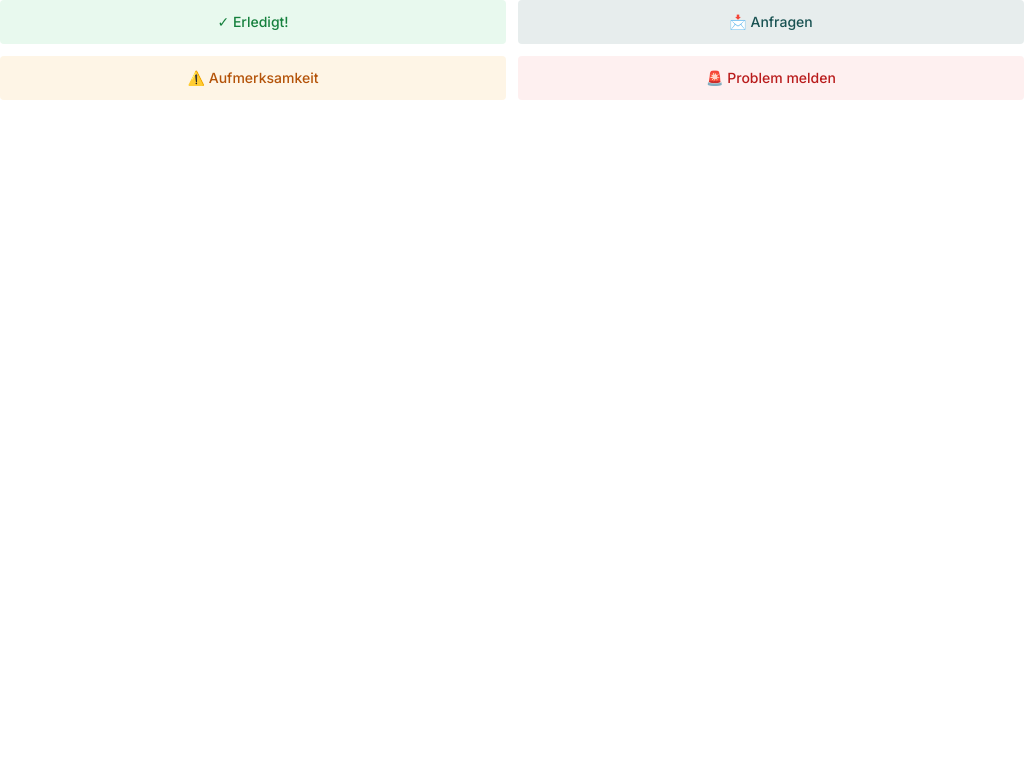
Test: ChoreActions › shows success status after request is sent
This screenshot has width=1024, height=768.
Click the button "📩 Anfragen" at [771, 22], box [518, 0, 1023, 44]
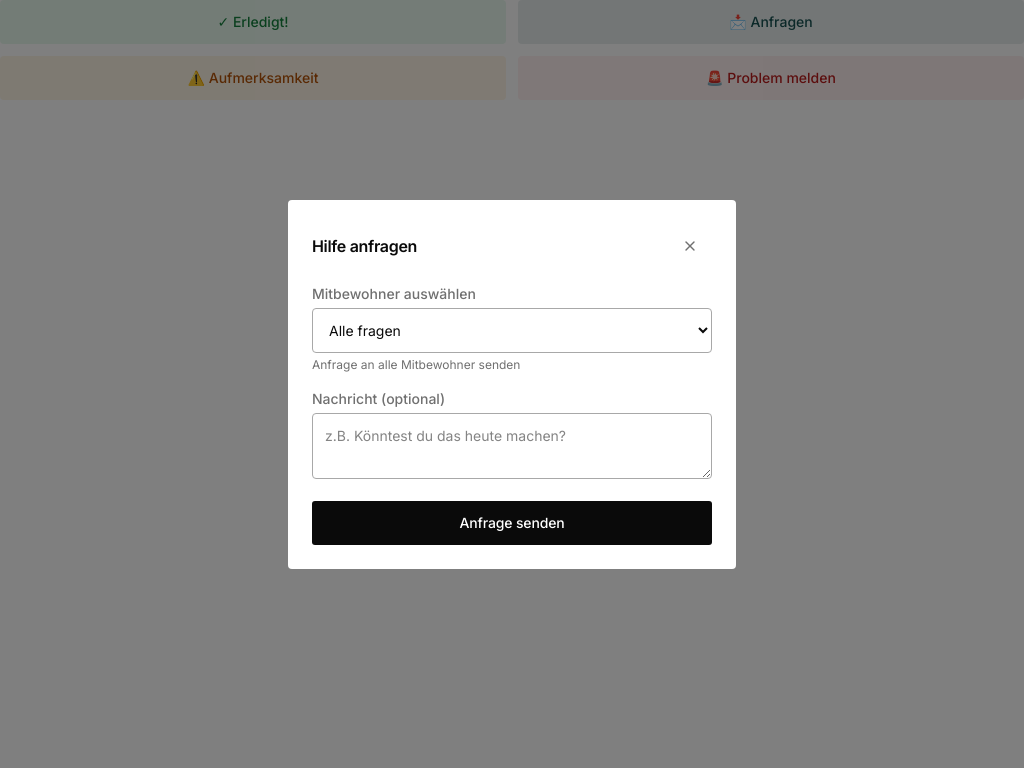
Submit the form named "Anfrage senden", box [312, 284, 712, 544]
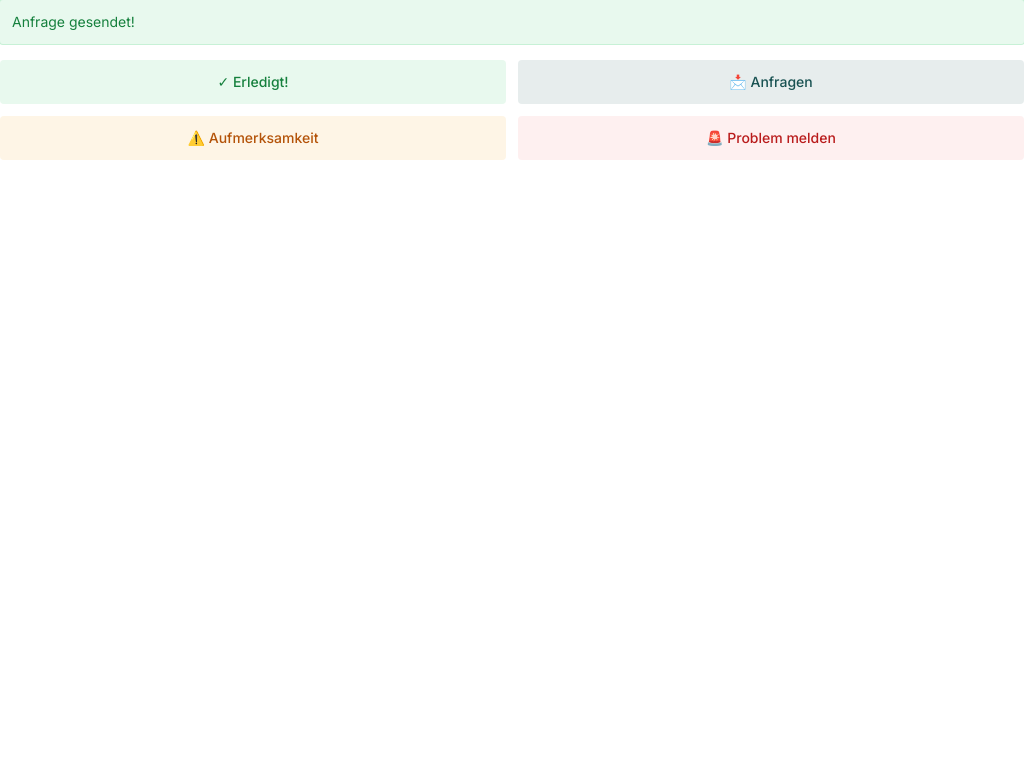
Now the message reads "Anfrage gesendet!", box [12, 13, 135, 30]
